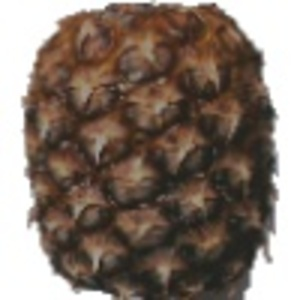abacaxi: (16, 3, 284, 295)
